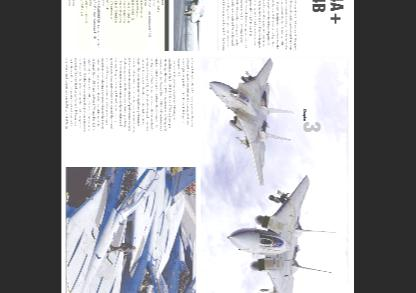EF2000: (227, 173, 338, 292), (65, 165, 160, 292), (105, 165, 196, 292), (208, 56, 295, 184), (123, 230, 197, 292), (185, 0, 217, 49), (180, 229, 197, 292)
